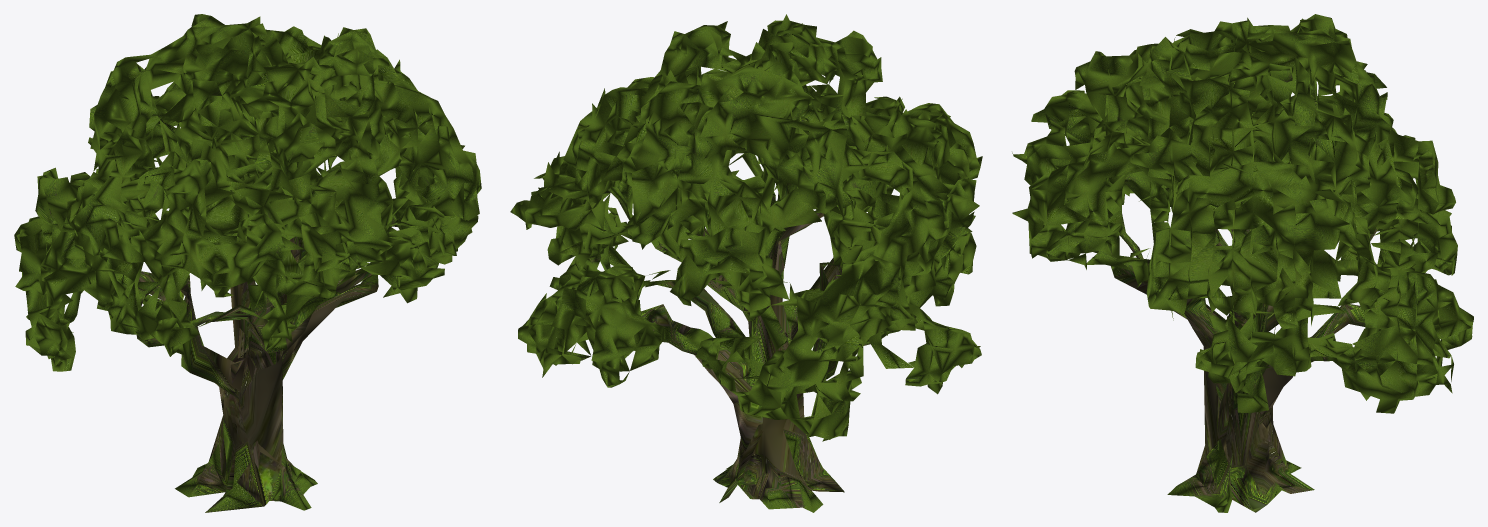
3 views of the same model, side by side, from view 1: azimuth 30°, elevation 25°; view 2: azimuth 150°, elevation 25°; view 3: azimuth 270°, elevation 25° (orthographic). The views are drawn at different scales.
Size of the model in its own units: 1.95 by 1.97 by 1.78.
Materials: 1 (1 with a texture image).
